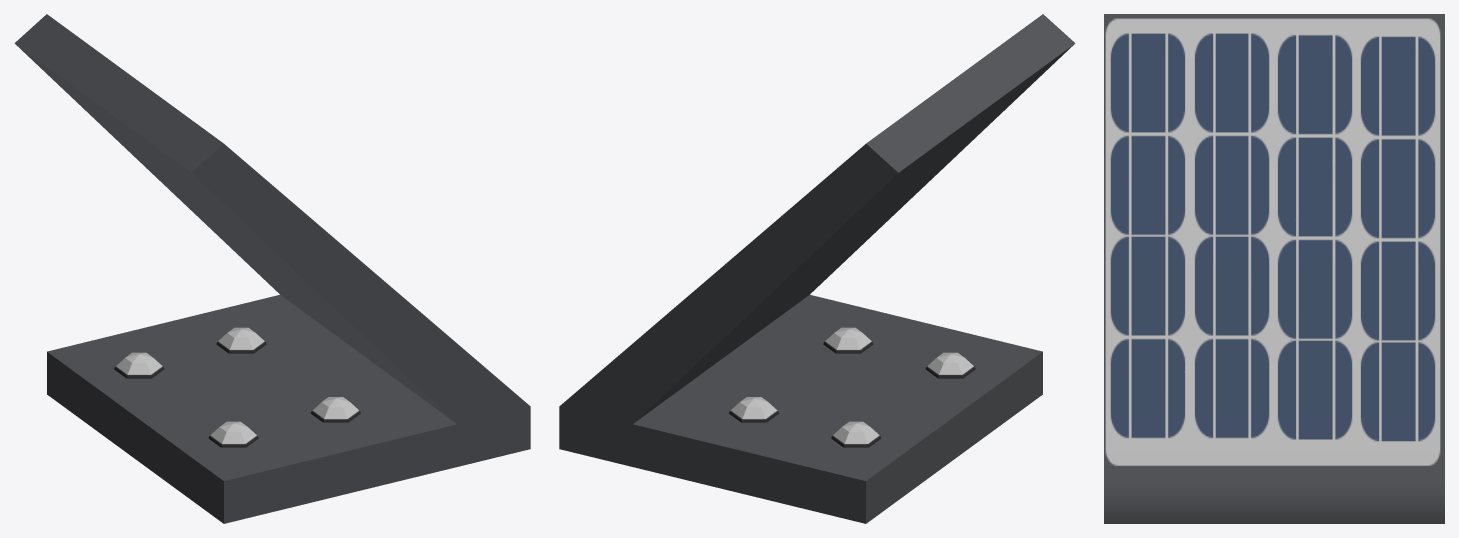
File: Solar Battery.obj
3 renders of one model, left to right at view 1: azimuth 30°, elevation 25°; view 2: azimuth 150°, elevation 25°; view 3: azimuth 270°, elevation 25°, orthographic. The views are drawn at different scales.
Visible parts, largest first — view 1: Solar_battery; view 2: Solar_battery; view 3: Solar_battery.
Part boxes in pixels (x1,y1,x2,y2): Solar_battery: (14, 14, 530, 523); Solar_battery: (559, 14, 1075, 523); Solar_battery: (1104, 14, 1444, 523).
Size of the model in its own units: 597 by 640 by 540.
Materials: 1 (1 with a texture image).
